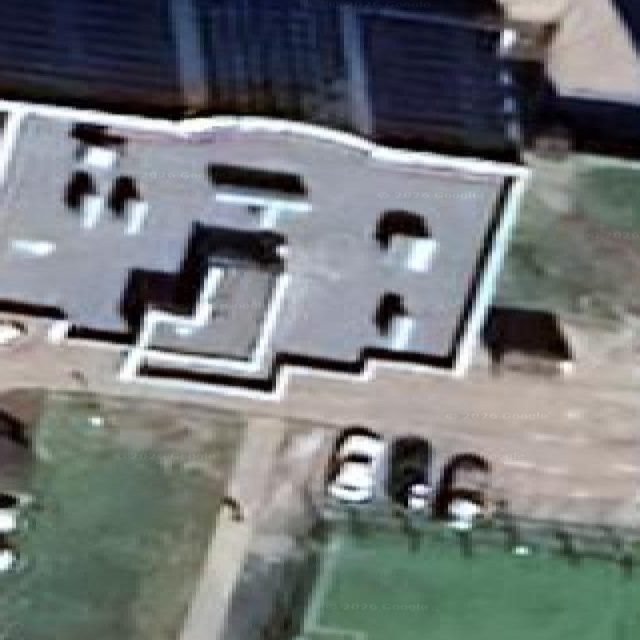car: (326, 427, 383, 503), (432, 452, 489, 527), (387, 435, 431, 507), (327, 455, 373, 502), (440, 452, 489, 491), (448, 488, 484, 529), (0, 491, 30, 533), (0, 492, 20, 533), (407, 483, 431, 510), (0, 533, 16, 573), (0, 320, 24, 346)
